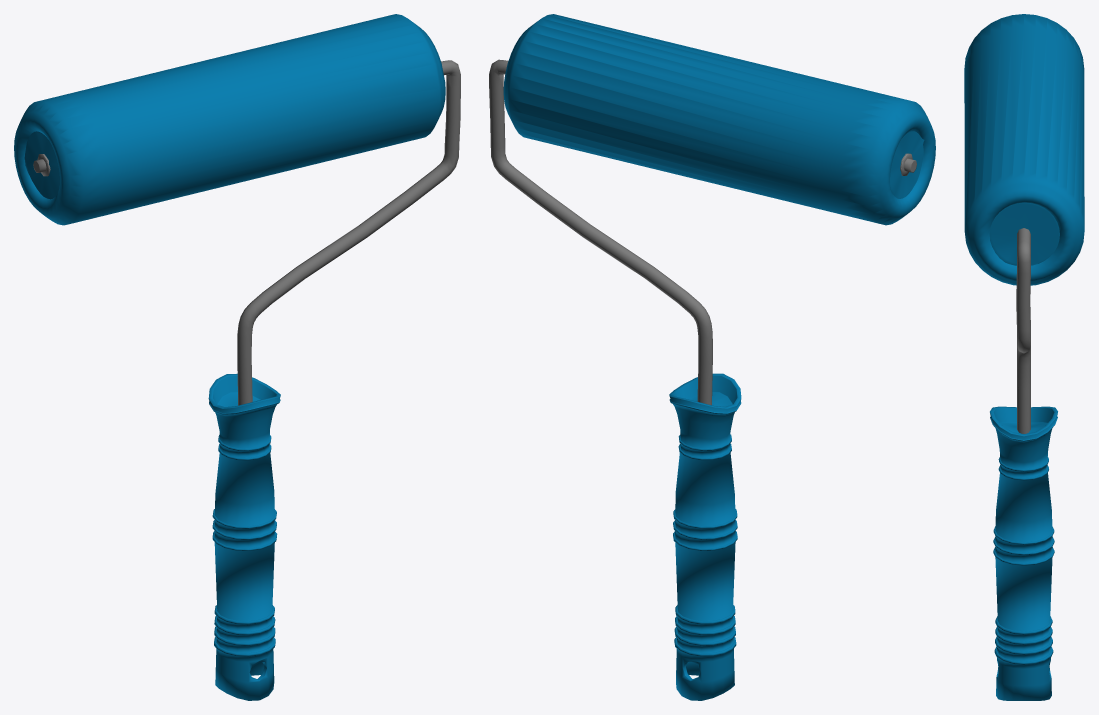
Rendered from pintador_azul.fbx.
3 renders of one model, left to right at view 1: azimuth 30°, elevation 25°; view 2: azimuth 150°, elevation 25°; view 3: azimuth 270°, elevation 25°, orthographic. The views are drawn at different scales.
Parts seen in each view (by area): view 1: pintador; view 2: pintador; view 3: pintador.
Boxes of the visible parts, box(x1,y1,x2,y2) form: pintador: box(14, 14, 460, 700); pintador: box(489, 14, 935, 700); pintador: box(964, 14, 1084, 700).
Size of the model in its own units: 1.05 by 1.5 by 0.2756.
